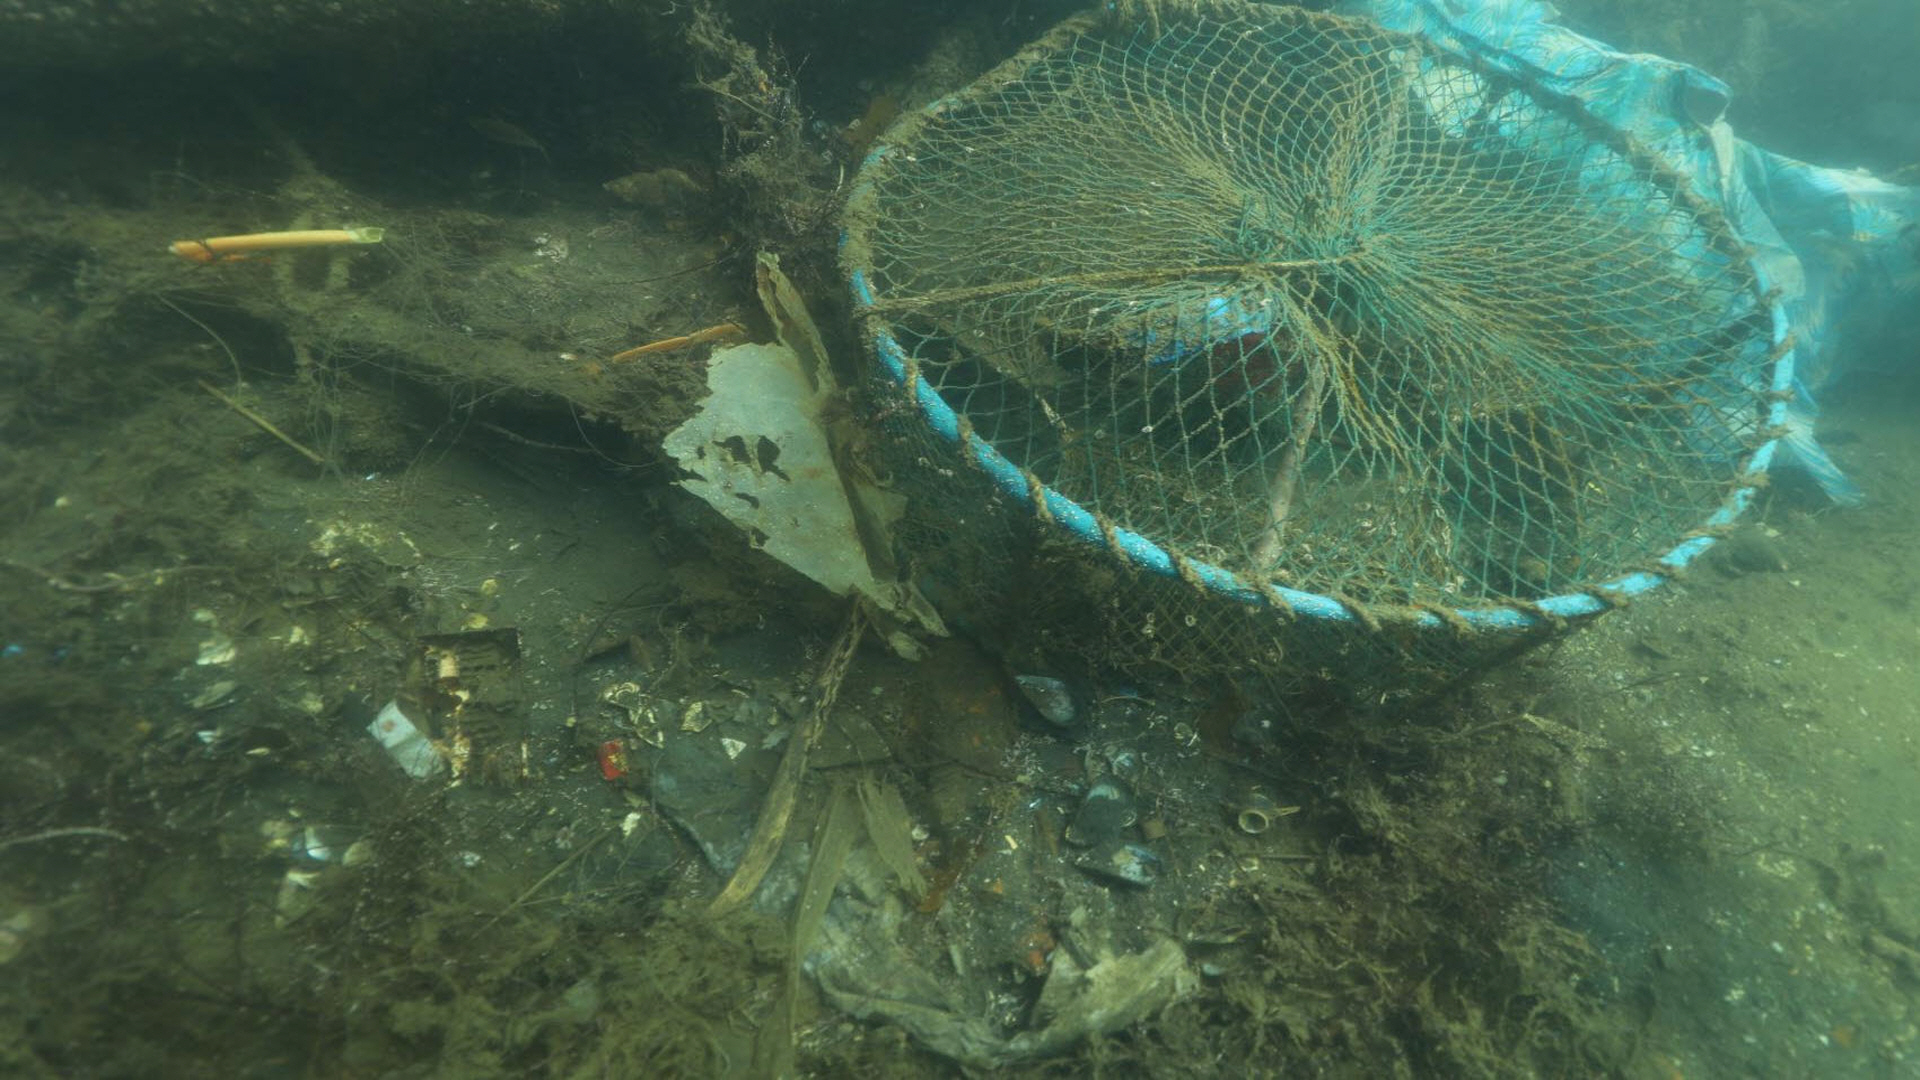circular fish trap: (837, 0, 1796, 680)
